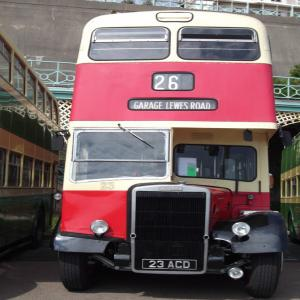Vehicle-registration-plate: (143, 262, 198, 272)
